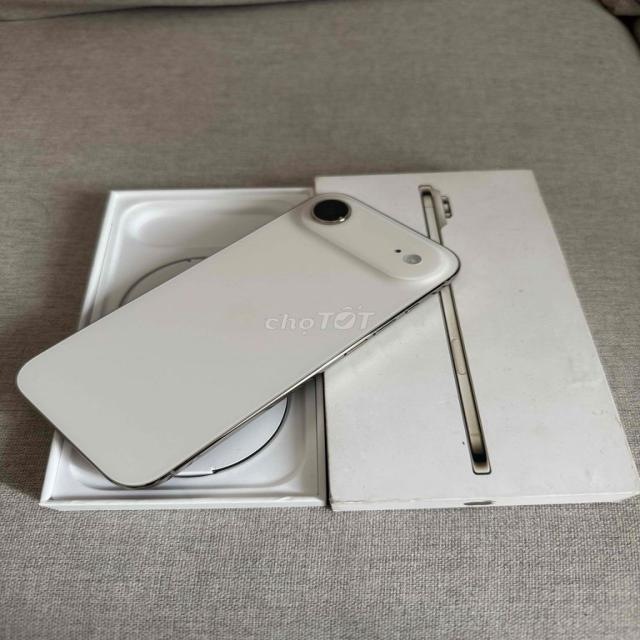gen_17: (16, 177, 460, 492)
